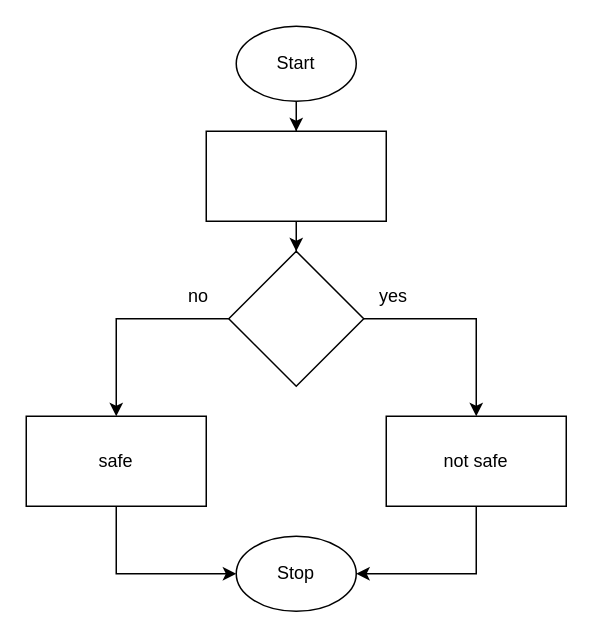
Some shapes in this 593 by 638 pixel diagram are drawn without their labels. The box of each missing label's shape, as (x1, y1, x2, y2) in pixels:
char == O: (227, 250, 364, 386)
find ptr relative to x and y input: (205, 130, 386, 221)
